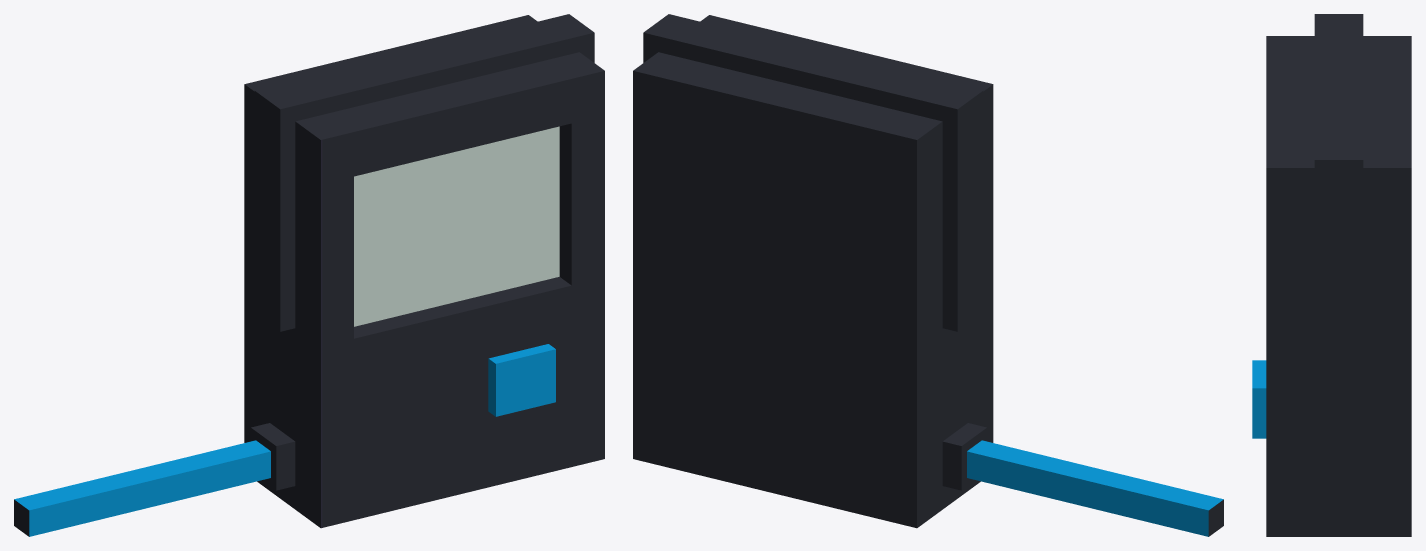
File: Building_GarageDoor_Opener_Blue.fbx
3 views of the same model, side by side, from view 1: azimuth 30°, elevation 25°; view 2: azimuth 150°, elevation 25°; view 3: azimuth 270°, elevation 25° (orthographic). The views are drawn at different scales.
Parts seen in each view (by area): view 1: GarageDoor_Opener_Blue; view 2: GarageDoor_Opener_Blue; view 3: GarageDoor_Opener_Blue.
Part boxes in pixels (x1,y1,x2,y2): GarageDoor_Opener_Blue: (14, 14, 604, 536); GarageDoor_Opener_Blue: (633, 14, 1223, 536); GarageDoor_Opener_Blue: (1252, 14, 1411, 536).
Bounding box in the file's own units: 41.79 × 28.8 × 10.81.
